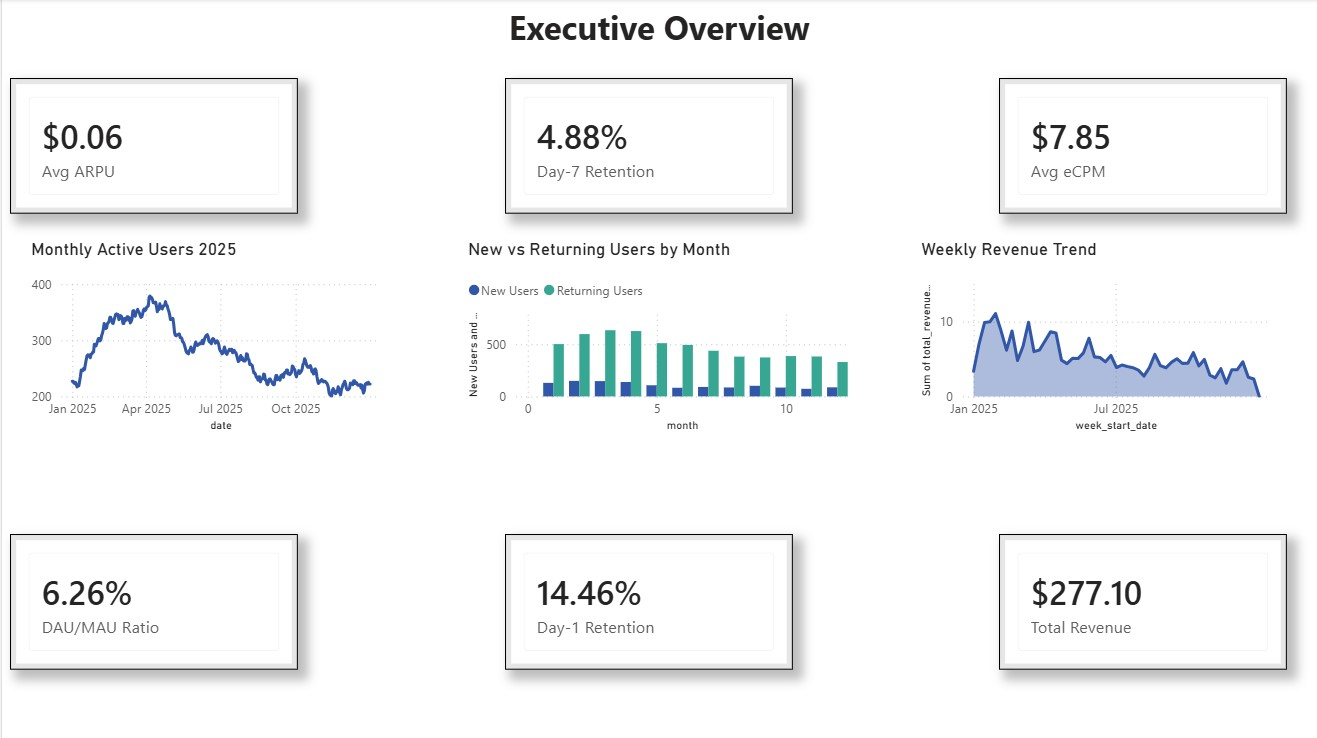

The dashboard page shown, as its layout file describes it:
{"tool":"powerbi","page":{"name":"Executive Overview","canvas":[1280,720],"ordinal":0},"visuals":[{"type":"cardVisual","fields":{"Data":["monetization_clean.Total Revenue"]},"box":[970.2,520.1,280,132],"z":0},{"type":"cardVisual","fields":{"Data":["engagement_clean.DAU/MAU Ratio"]},"box":[8.2,520.1,280,132],"z":1000},{"type":"cardVisual","fields":{"Data":["player_behaviour_clean.Day-1 Retention"]},"box":[489.2,520.1,280,132],"z":2000},{"type":"cardVisual","fields":{"Data":["player_behaviour_clean.Day-7 Retention"]},"box":[489.2,76.8,280,132],"z":3000},{"type":"cardVisual","fields":{"Data":["monetization_clean.Avg eCPM"]},"box":[970.2,76.8,280,132],"z":4000},{"type":"cardVisual","fields":{"Data":["monetization_clean.Avg ARPU"]},"box":[8.2,76.8,280,132],"z":5000},{"type":"lineChart","title":"Monthly Active Users 2025","fields":{"Category":["engagement_clean.date"],"Y":["Sum(engagement_clean.monthly_active_users)"]},"box":[23.3,233.4,408.5,253.9],"z":6000},{"type":"areaChart","title":"Weekly Revenue Trend","fields":{"Category":["monetization_clean.week_start_date"],"Y":["Sum(monetization_clean.total_revenue_usd)"]},"box":[889,233.4,384.2,253.9],"z":7000},{"type":"clusteredColumnChart","title":"New vs Returning Users by Month","fields":{"Category":["engagement_clean.month"],"Y":["Sum(engagement_clean.new_users)","Sum(engagement_clean.returning_users)"]},"box":[448.4,233.4,405.6,253.9],"z":8000},{"type":"textbox","box":[458.3,0,362.3,56.3],"z":10000}]}

Visuals, with their boxes in screenshot pixels (x1, y1, x2, y2), scaled from the page's 1280x720 canvas onto the 1317x738 screenshot:
cardVisual - monetization_clean.Total Revenue: detection(998, 533, 1286, 668)
cardVisual - engagement_clean.DAU/MAU Ratio: detection(8, 533, 297, 668)
cardVisual - player_behaviour_clean.Day-1 Retention: detection(503, 533, 791, 668)
cardVisual - player_behaviour_clean.Day-7 Retention: detection(503, 79, 791, 214)
cardVisual - monetization_clean.Avg eCPM: detection(998, 79, 1286, 214)
cardVisual - monetization_clean.Avg ARPU: detection(8, 79, 297, 214)
"Monthly Active Users 2025" lineChart: detection(24, 239, 444, 499)
"Weekly Revenue Trend" areaChart: detection(915, 239, 1310, 499)
"New vs Returning Users by Month" clusteredColumnChart: detection(461, 239, 879, 499)
textbox: detection(472, 0, 844, 58)
